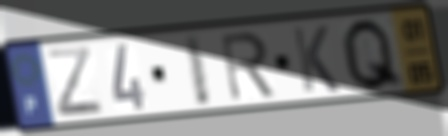4: (111, 41, 147, 112)
I: (181, 31, 214, 110)
K: (289, 23, 343, 95)
Q: (339, 15, 407, 94)
R: (217, 29, 279, 104)
Z: (44, 44, 107, 119)
